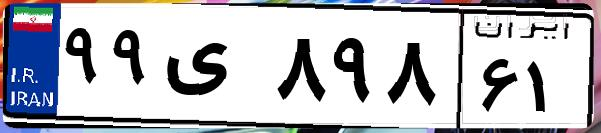1: (525, 38, 570, 115)
6: (475, 38, 525, 113)
8: (270, 28, 330, 110), (385, 28, 445, 110)
9: (330, 28, 385, 110), (57, 26, 110, 100), (110, 28, 158, 98)
ی: (158, 20, 270, 120)
